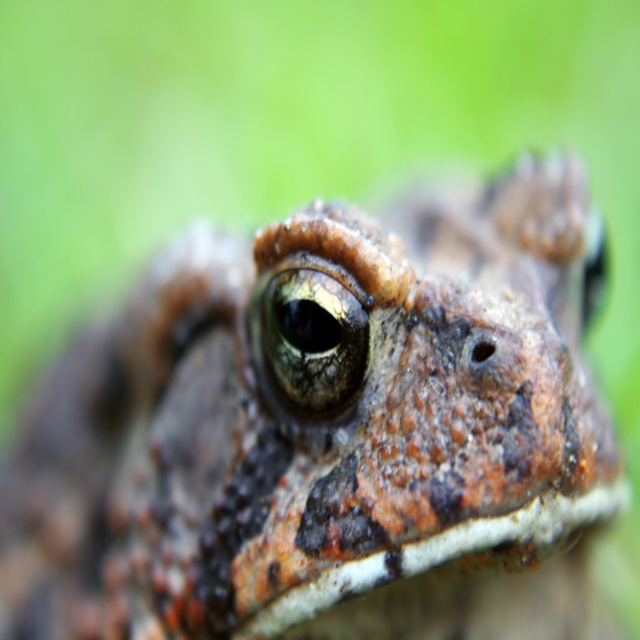Frog: (1, 138, 626, 639)
